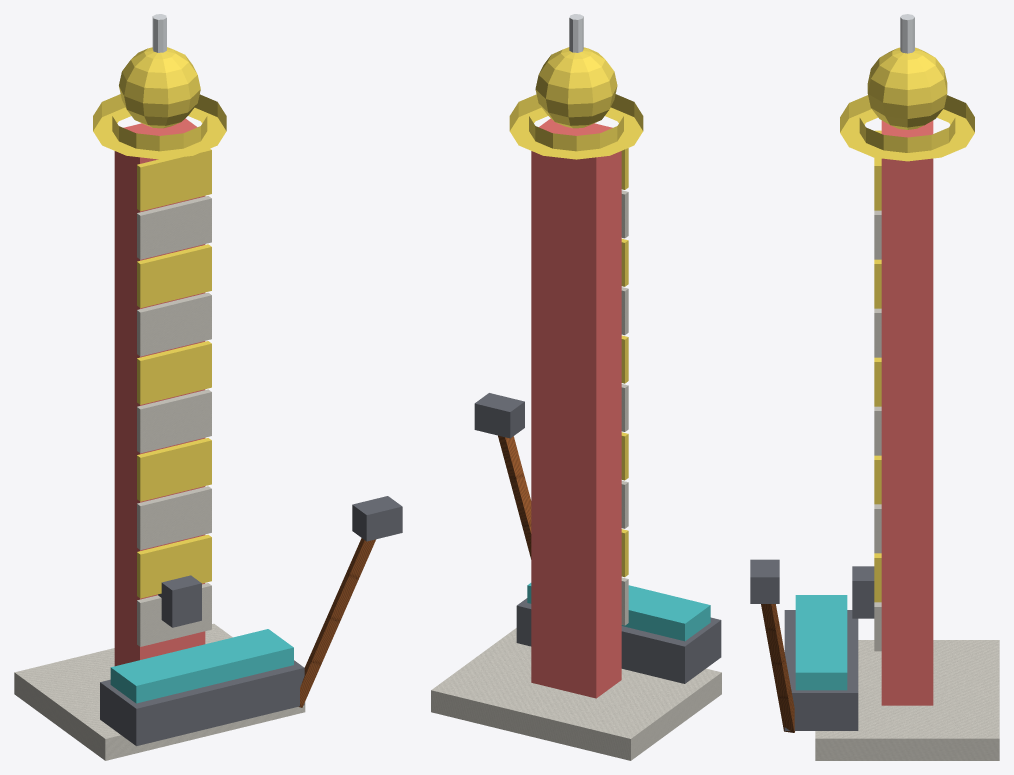
The model's file is theme-park-rides-and-coasters-theme-park-rides-and-coa-36662dba__28687.glb.
The picture shows the model from 3 angles, left to right: view 1: azimuth 30°, elevation 25°; view 2: azimuth 150°, elevation 25°; view 3: azimuth 270°, elevation 25°; orthographic projection.
Parts seen in each view (by area): view 1: theme-park-rides-and-coasters-high-striker; view 2: theme-park-rides-and-coasters-high-striker; view 3: theme-park-rides-and-coasters-high-striker.
Boxes of the visible parts, x1,y1,x2,y2 form: theme-park-rides-and-coasters-high-striker: (14, 14, 402, 760); theme-park-rides-and-coasters-high-striker: (431, 14, 721, 760); theme-park-rides-and-coasters-high-striker: (750, 14, 999, 760).
Bounding box in the file's own units: 2.52 × 6.24 × 2.03.
Materials: 7 (2 with a texture image).
